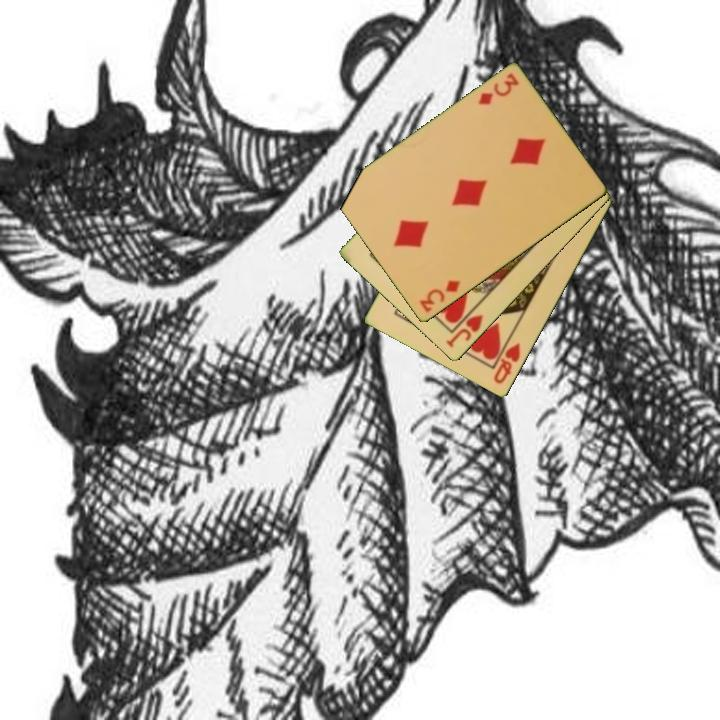3d: (416, 277, 463, 316), (474, 70, 522, 108)
Jh: (442, 301, 486, 351)
Qh: (490, 333, 523, 387)
